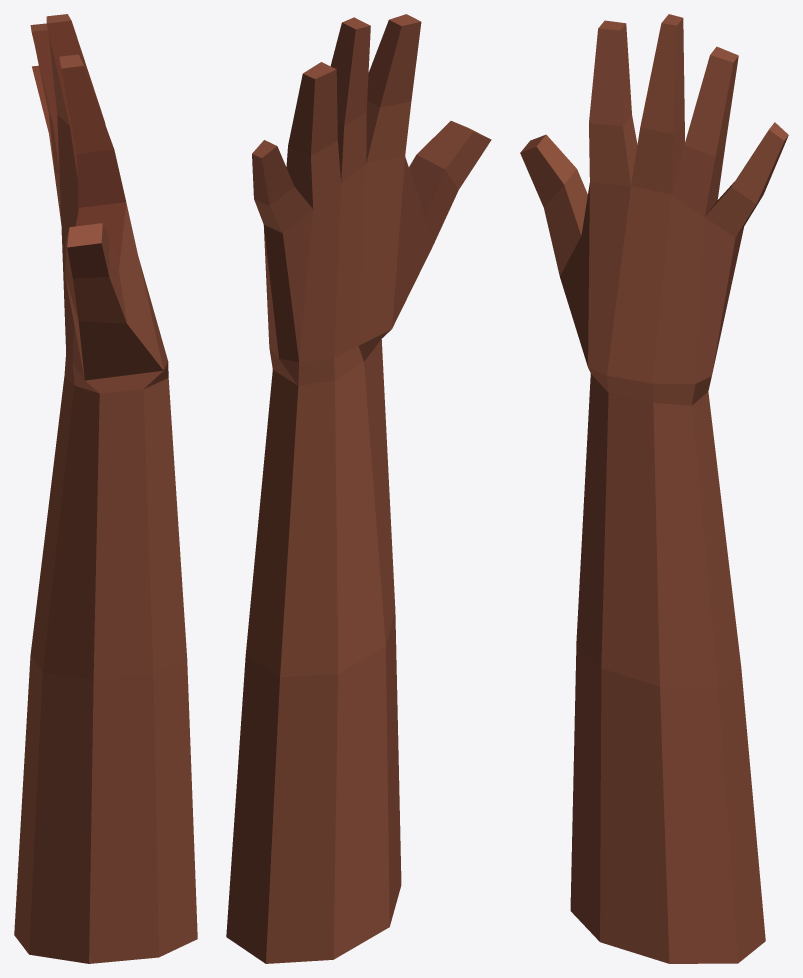
File: mano.obj
3 renders of one model, left to right at view 1: azimuth 30°, elevation 25°; view 2: azimuth 150°, elevation 25°; view 3: azimuth 270°, elevation 25°, orthographic. The views are drawn at different scales.
Visible parts, largest first — view 1: Cube.001_Cube.002; view 2: Cube.001_Cube.002; view 3: Cube.001_Cube.002.
Boxes of the visible parts, left/top/right/bottom form: Cube.001_Cube.002: left=14, top=14, right=197, bottom=963; Cube.001_Cube.002: left=226, top=14, right=491, bottom=963; Cube.001_Cube.002: left=520, top=14, right=788, bottom=963.
Bounding box in the file's own units: 0.4634 × 2.22 × 0.5996.
1 material, 1 textured.
